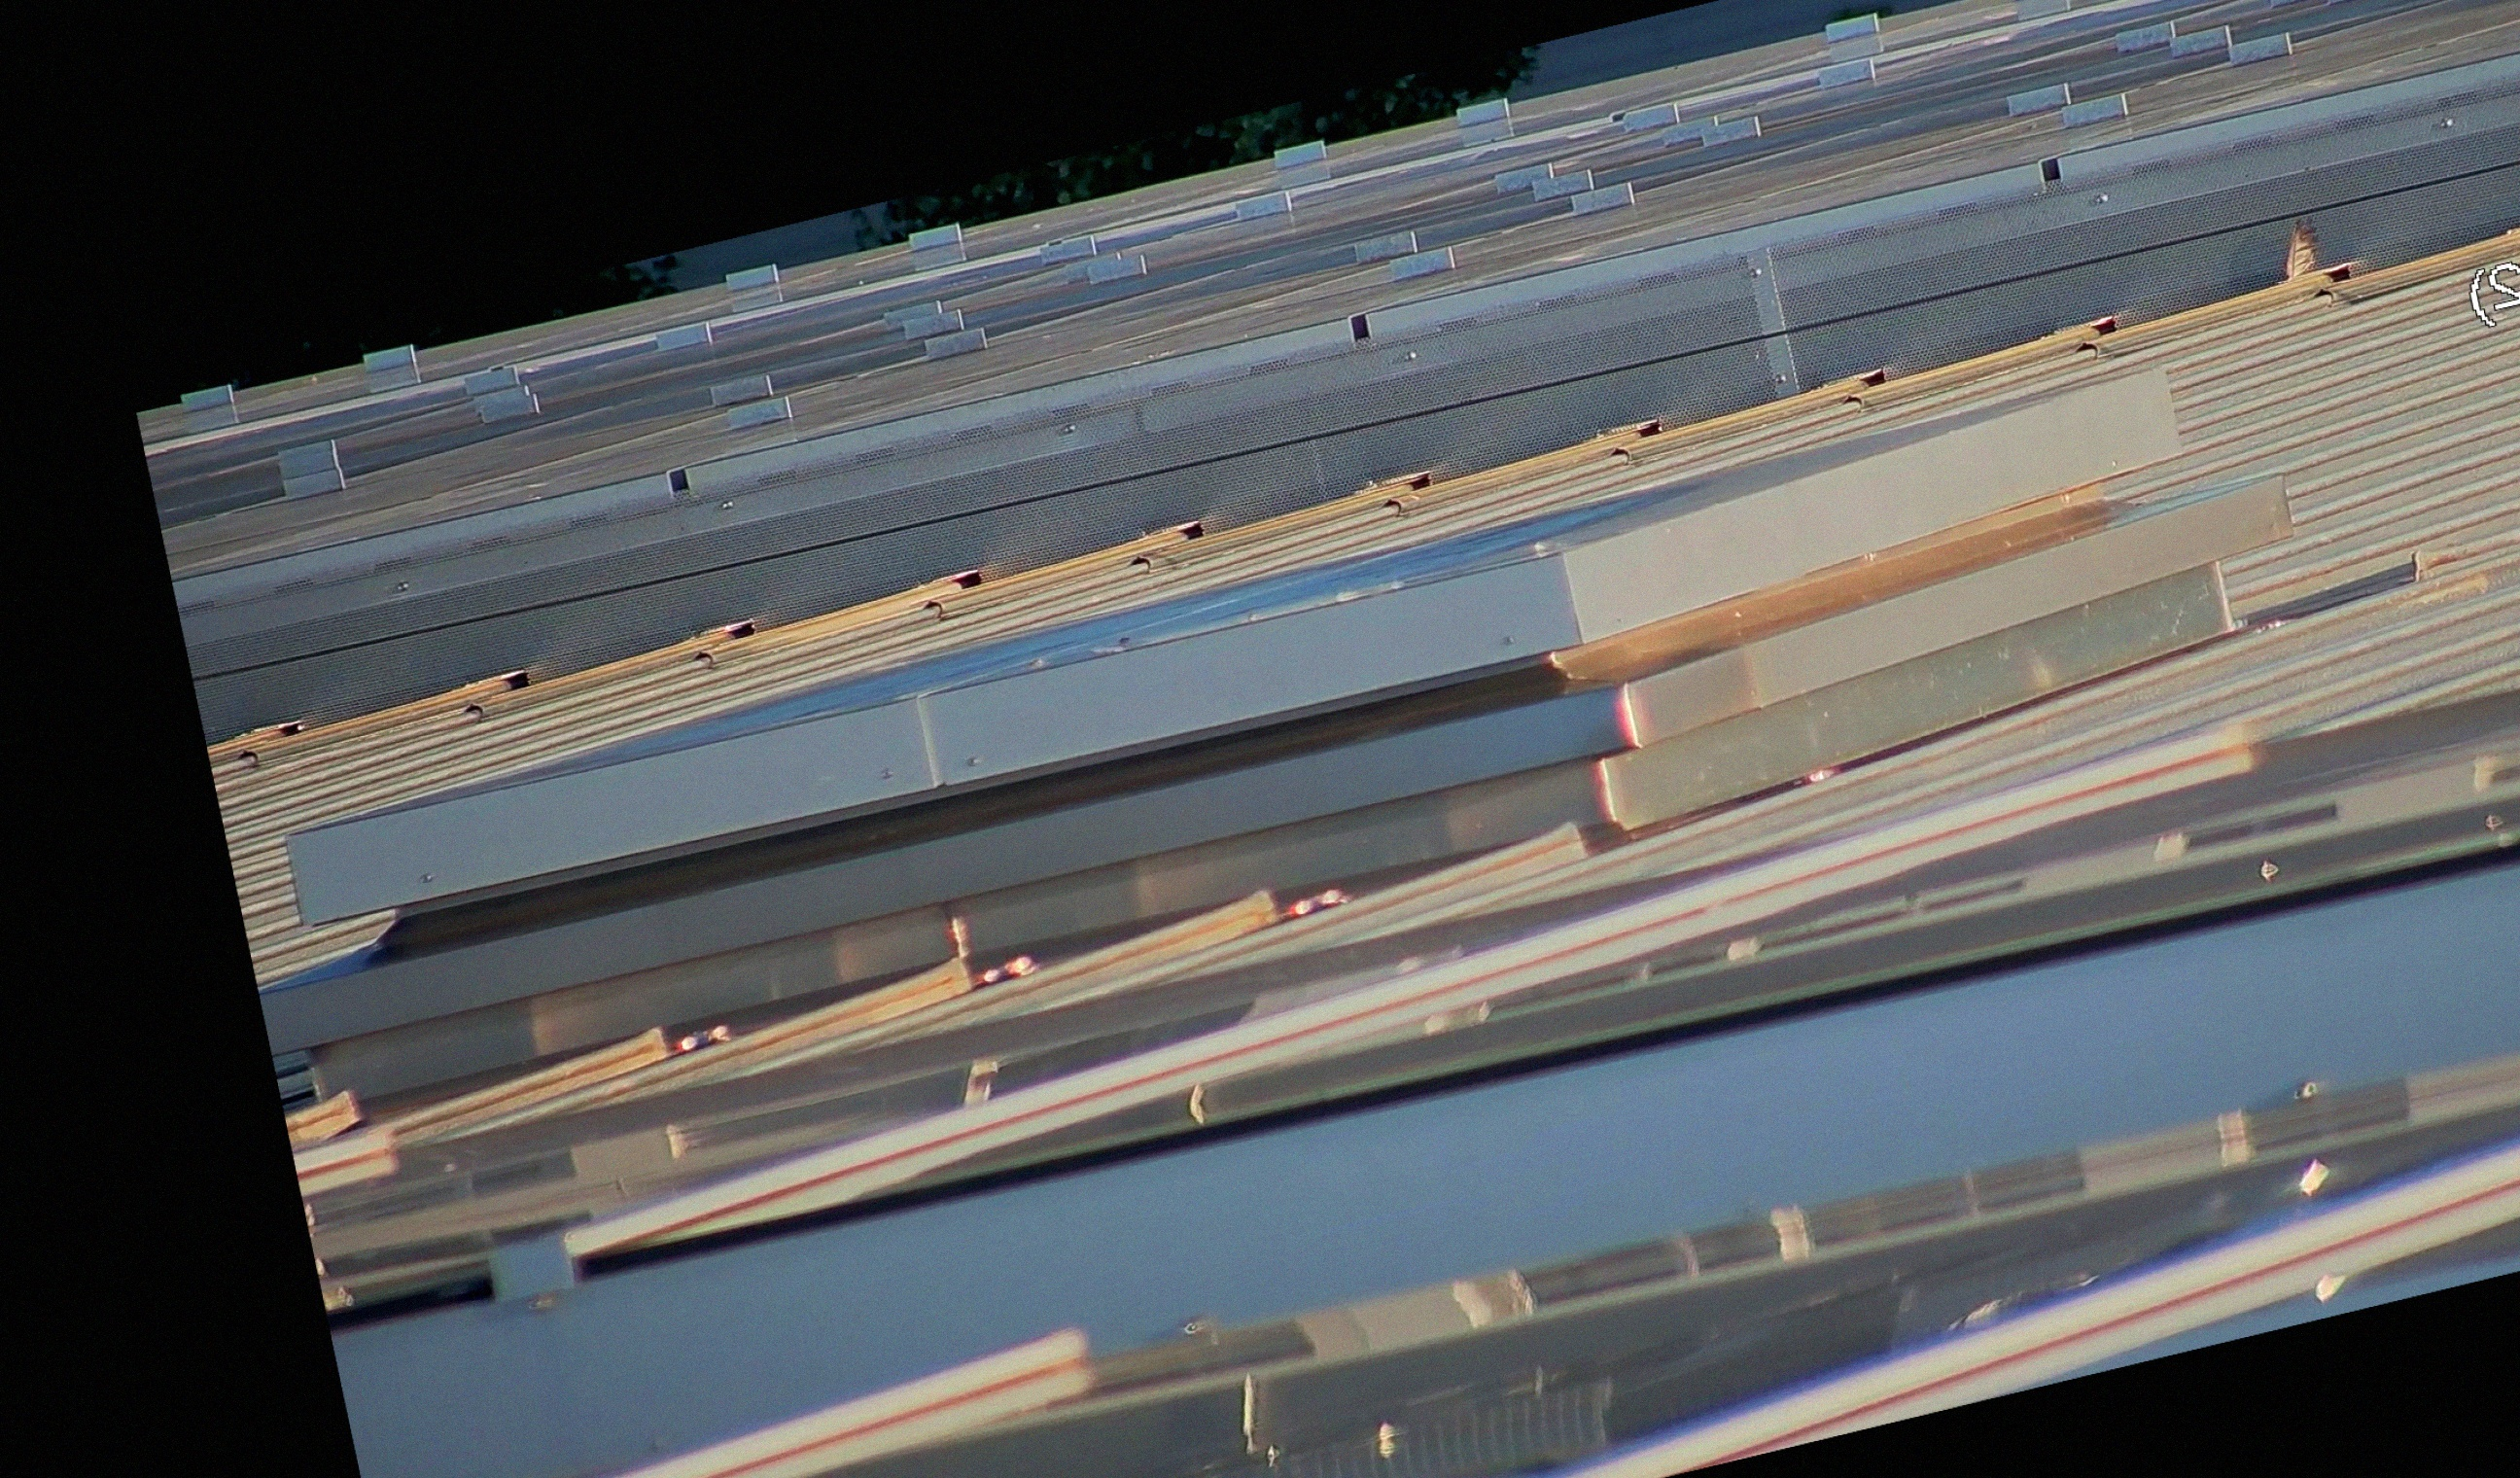Other: (2269, 195, 2358, 294)
